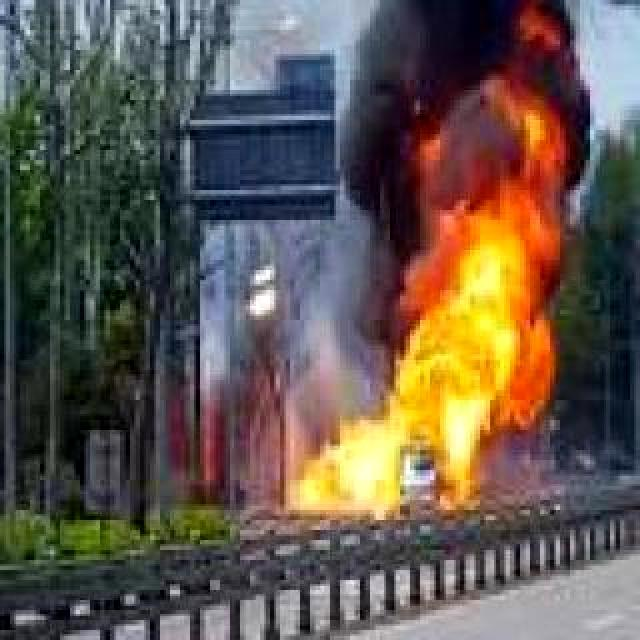fire: (416, 228, 556, 440), (294, 434, 406, 502), (428, 454, 484, 496)
